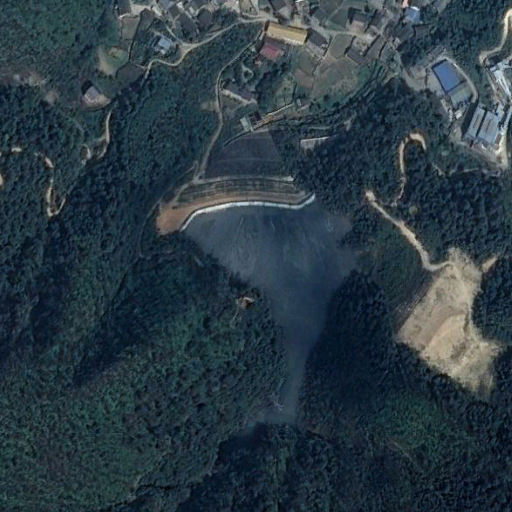tp: (162, 131, 355, 428)
